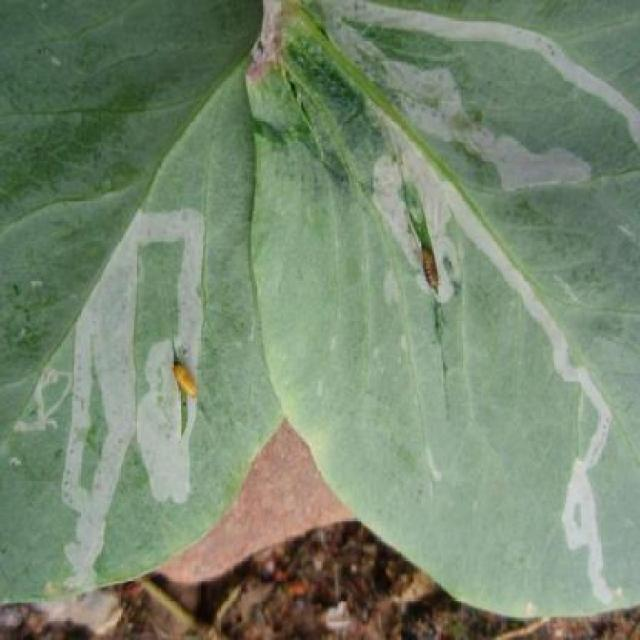whorl-maggot: (162, 353, 206, 413), (410, 235, 448, 299)
